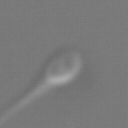normal: (1, 78, 50, 128)
